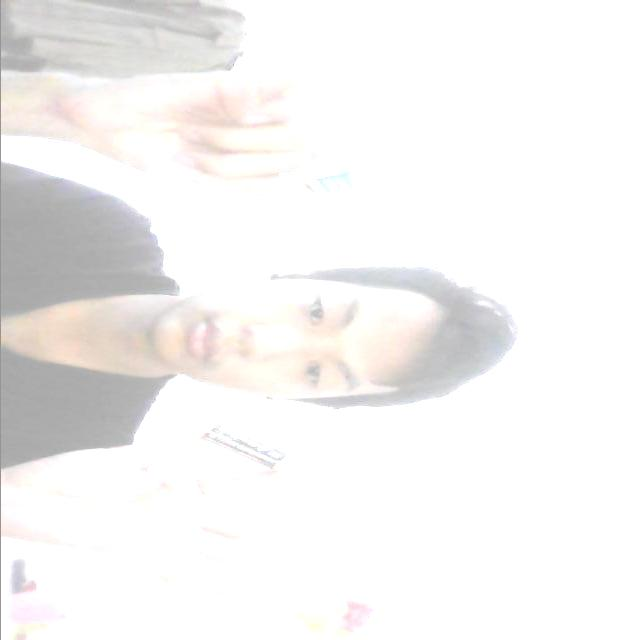AA: (276, 153, 432, 207), (180, 428, 300, 468)
